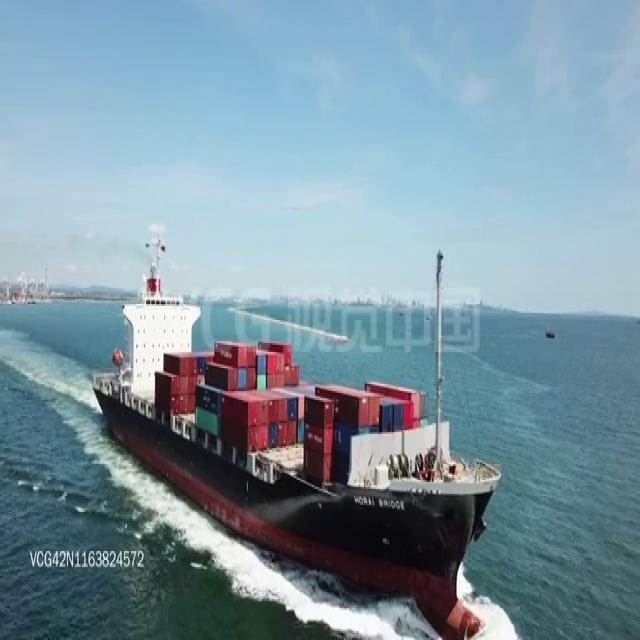cargoship: (92, 216, 503, 640)
